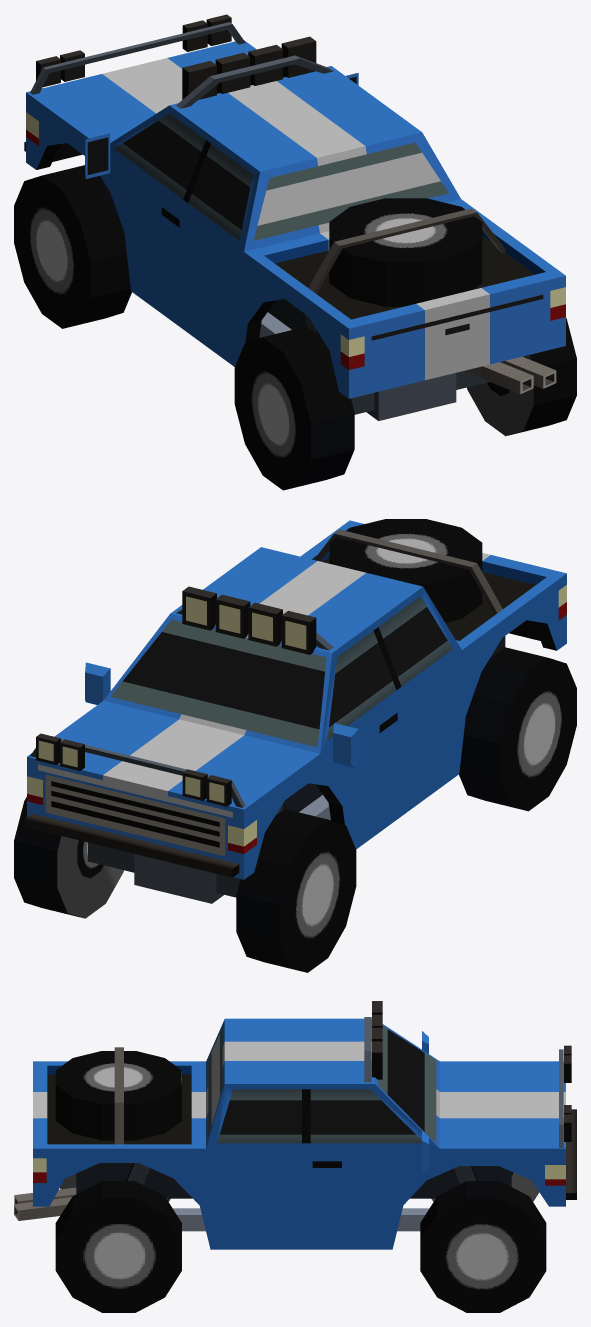
Rendered from OffRoadCar_v2.fbx.
3 views of the same model, one above another, from view 1: azimuth 30°, elevation 25°; view 2: azimuth 150°, elevation 25°; view 3: azimuth 270°, elevation 25° (orthographic). The views are drawn at different scales.
Visible parts, largest first — view 1: SR_Veh_OffRoadTruck_Blue; view 2: SR_Veh_OffRoadTruck_Blue; view 3: SR_Veh_OffRoadTruck_Blue.
Boxes of the visible parts, box(x1,y1,x2,y2) form: SR_Veh_OffRoadTruck_Blue: box(14, 14, 576, 490); SR_Veh_OffRoadTruck_Blue: box(14, 519, 576, 972); SR_Veh_OffRoadTruck_Blue: box(14, 1001, 576, 1312).
Size of the model in its own units: 367 by 362 by 795.
